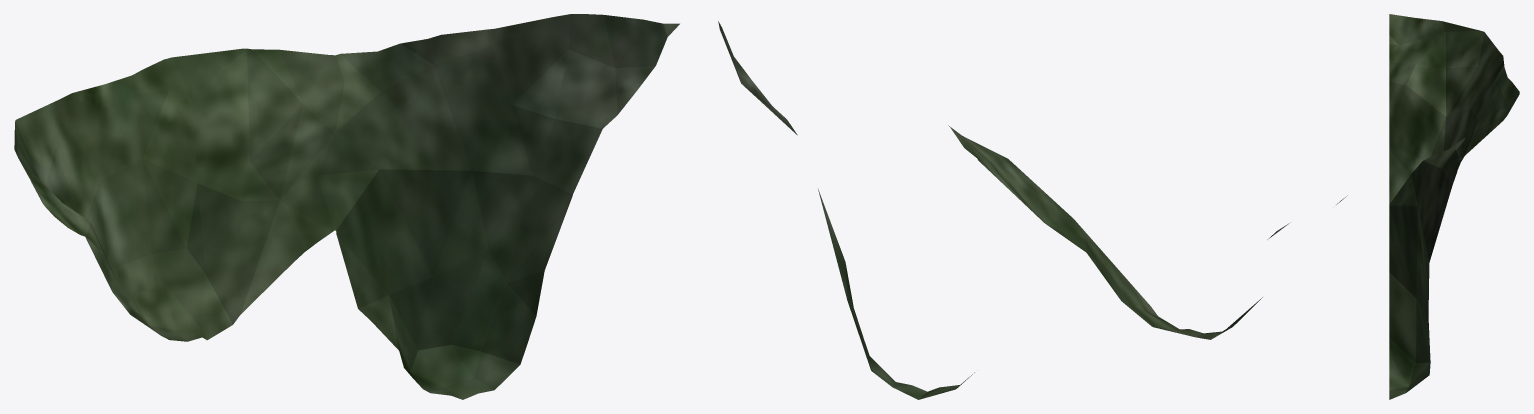
3 views of the same model, side by side, from view 1: azimuth 30°, elevation 25°; view 2: azimuth 150°, elevation 25°; view 3: azimuth 270°, elevation 25° (orthographic). The views are drawn at different scales.
Bounding box in the file's own units: 2.38 × 1.13 × 0.5871.
1 material, 1 textured.
